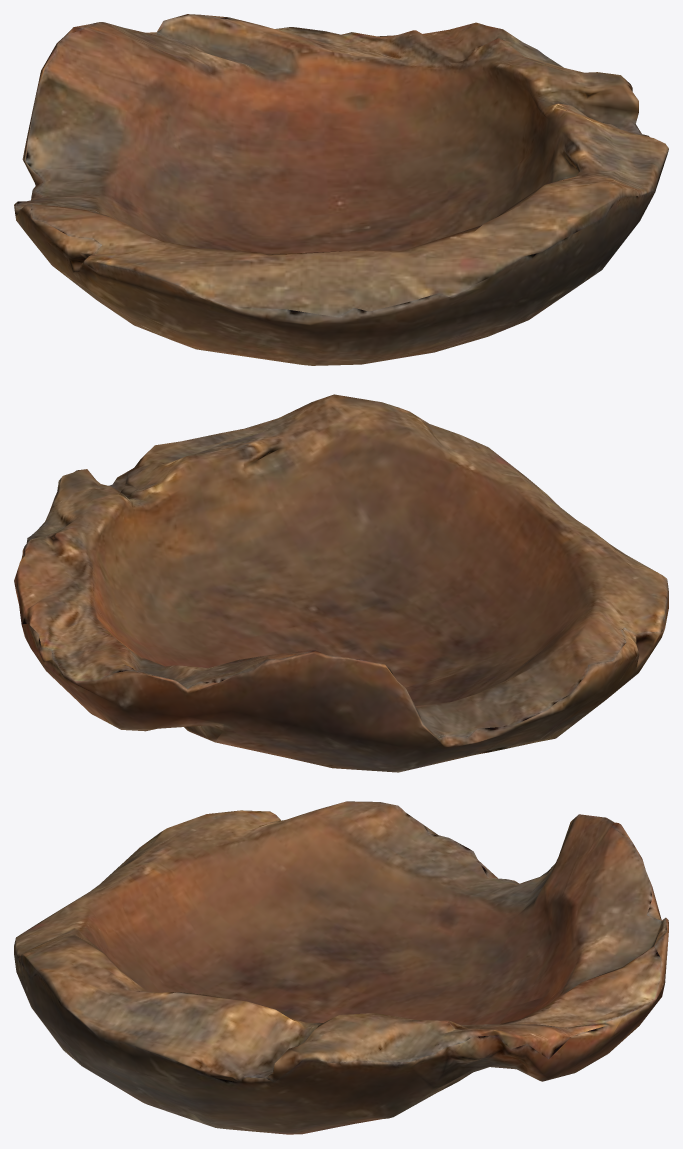
The model's file is wooden_bowl_01.lod1.glb.
3 views of the same model, one above another, from view 1: azimuth 30°, elevation 25°; view 2: azimuth 150°, elevation 25°; view 3: azimuth 270°, elevation 25° (orthographic). The views are drawn at different scales.
Visible parts, largest first — view 1: wooden_bowl_01; view 2: wooden_bowl_01; view 3: wooden_bowl_01.
Boxes of the visible parts, x1,y1,x2,y2 form: wooden_bowl_01: (14,14,668,365); wooden_bowl_01: (14,394,668,772); wooden_bowl_01: (14,801,668,1134).
Bounding box in the file's own units: 0.3125 × 0.0935 × 0.3088.
Materials: 1 (1 with a texture image).
